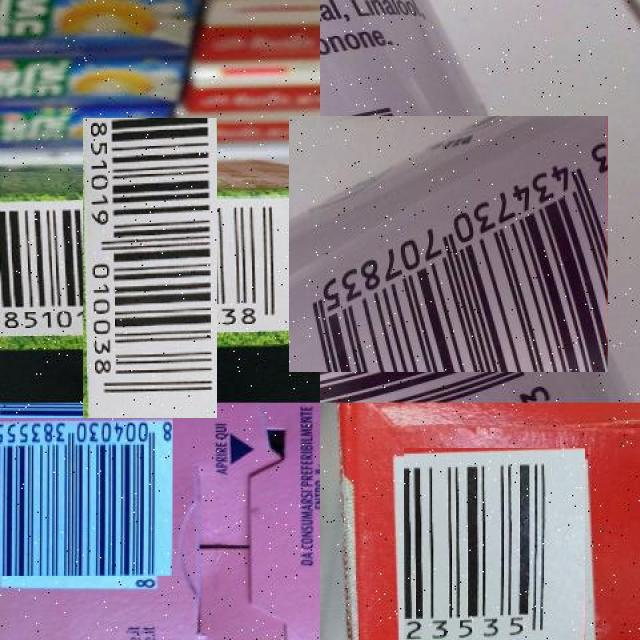Barcode: (304, 100, 593, 387), (41, 160, 259, 377), (398, 453, 590, 640), (0, 409, 166, 583)
